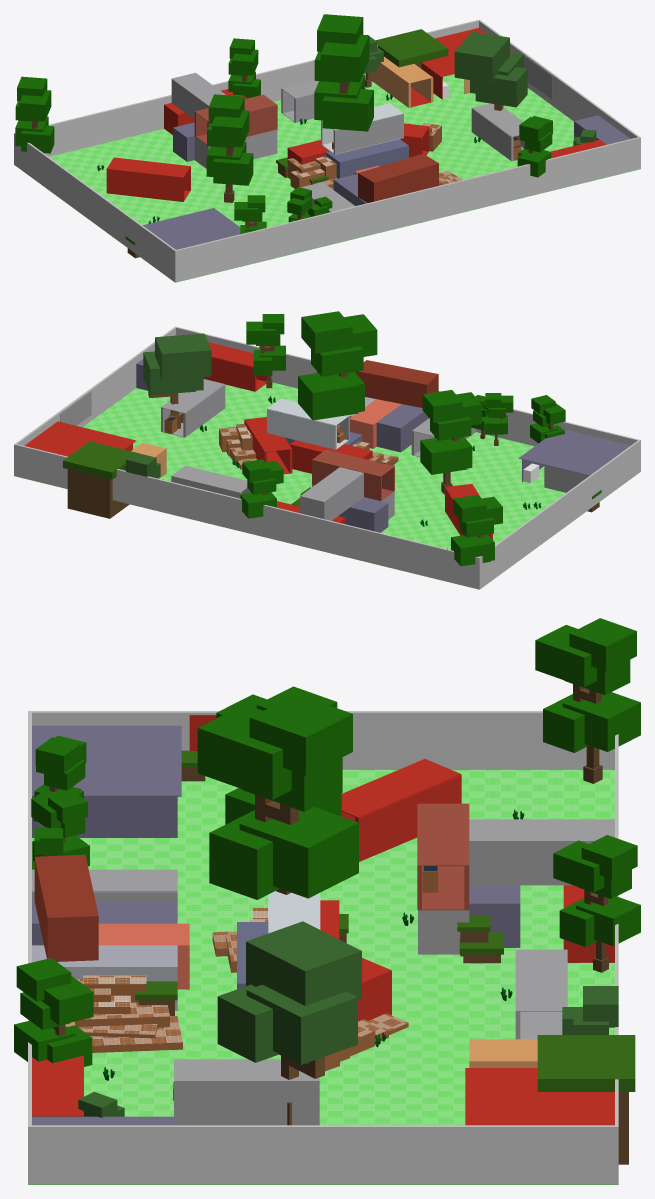
Rendered from map.gltf.
The picture shows the model from 3 angles, top to bottom: view 1: azimuth 30°, elevation 25°; view 2: azimuth 150°, elevation 25°; view 3: azimuth 270°, elevation 25°; orthographic projection. The views are drawn at different scales.
Visible parts, largest first — view 1: Height (×29), Part (×22), floor, Texture, Height11; view 2: Height (×25), Part (×22), floor, Texture; view 3: Height (×31), Part (×30), floor, Texture, Height17, Height5, Height8, Height16.
Part boxes in pixels (x1,y1,x2,y2): Height (×29): (14, 19, 640, 282); Part (×22): (15, 14, 551, 220); floor: (14, 74, 640, 282); Texture: (52, 76, 573, 226); Height11: (290, 169, 324, 188); Height (×25): (14, 326, 640, 589); Part (×22): (63, 311, 493, 566); floor: (14, 382, 640, 589); Texture: (88, 384, 564, 548); Height (×31): (28, 711, 618, 1184); Part (×30): (14, 618, 640, 1164); floor: (28, 770, 618, 1184); Texture: (80, 770, 614, 1124); Height17: (91, 1016, 182, 1052); Height5: (75, 1002, 169, 1027); Height8: (83, 976, 146, 1002); Height16: (65, 1022, 157, 1038).
Bounding box in the file's own units: 153 × 49.99 × 95.53.
Materials: 27 (1 with a texture image).
